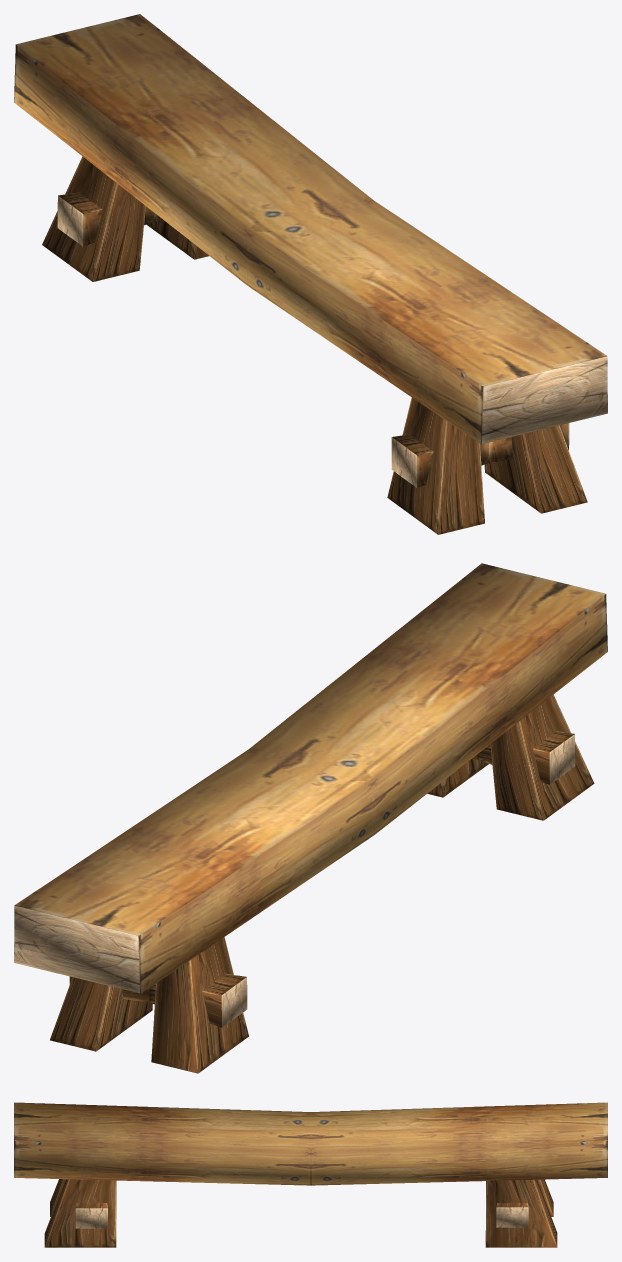
File: innbench.obj
3 renders of one model, top to bottom at view 1: azimuth 30°, elevation 25°; view 2: azimuth 150°, elevation 25°; view 3: azimuth 270°, elevation 25°, orthographic. The views are drawn at different scales.
Bounding box in the file's own units: 0.8077 × 0.8188 × 4.2.
Materials: 1 (1 with a texture image).
